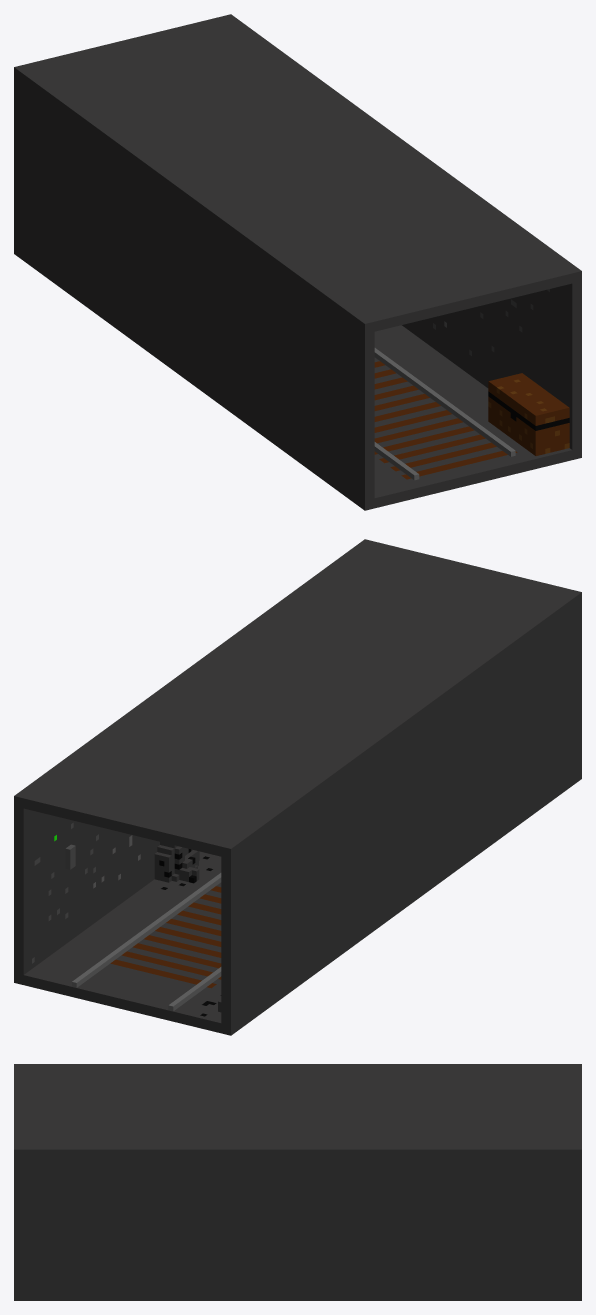
File: _Lvl2 toon1.obj
The picture shows the model from 3 angles, top to bottom: view 1: azimuth 30°, elevation 25°; view 2: azimuth 150°, elevation 25°; view 3: azimuth 270°, elevation 25°; orthographic projection. The views are drawn at different scales.
Visible parts, largest first — view 1: _Lvl2 toon1; view 2: _Lvl2 toon1; view 3: _Lvl2 toon1.
Part boxes in pixels (x1=…): _Lvl2 toon1: x1=14, y1=14, x2=581, y2=510; _Lvl2 toon1: x1=14, y1=539, x2=581, y2=1035; _Lvl2 toon1: x1=14, y1=1064, x2=581, y2=1300.
Size of the model in its own units: 45 by 37 by 126.
Materials: 1 (1 with a texture image).
